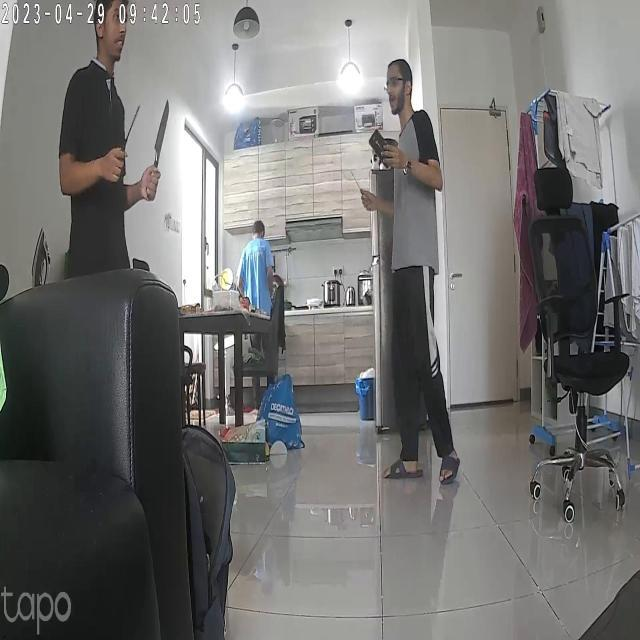Knife: (152, 101, 176, 194), (111, 99, 142, 168)
